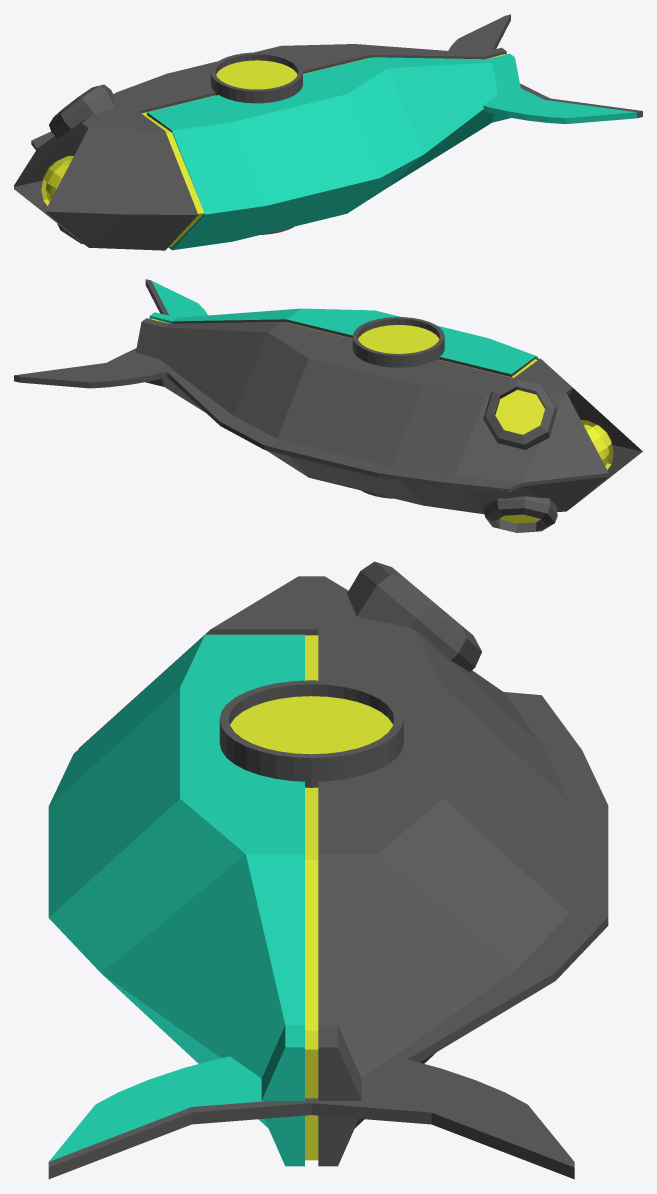
Rendered from yajirobe.glb.
The picture shows the model from 3 angles, top to bottom: view 1: azimuth 30°, elevation 25°; view 2: azimuth 150°, elevation 25°; view 3: azimuth 270°, elevation 25°; orthographic projection. The views are drawn at different scales.
Visible parts, largest first — view 1: yajirobe; view 2: yajirobe; view 3: yajirobe.
Boxes of the visible parts, x1=… form: yajirobe: x1=14, y1=14, x2=642, y2=250; yajirobe: x1=14, y1=279, x2=642, y2=532; yajirobe: x1=48, y1=561, x2=608, y2=1179.
Size of the model in its own units: 3.36 by 0.9035 by 1.49.
